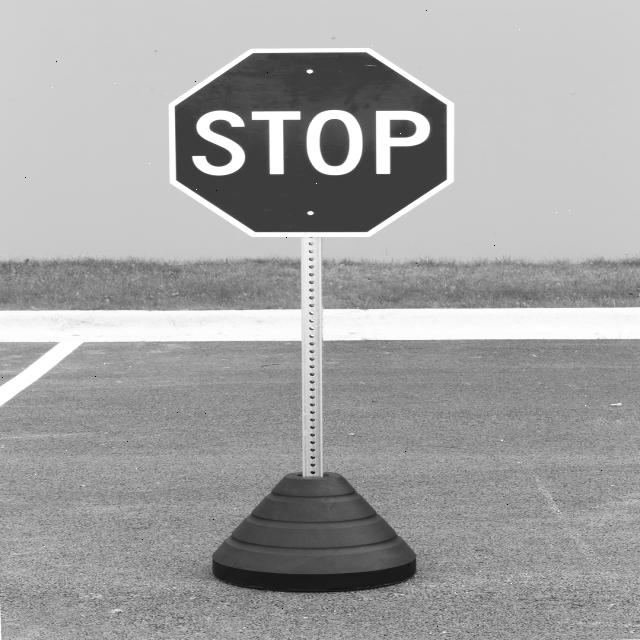Stop-sign: (137, 32, 480, 249)
